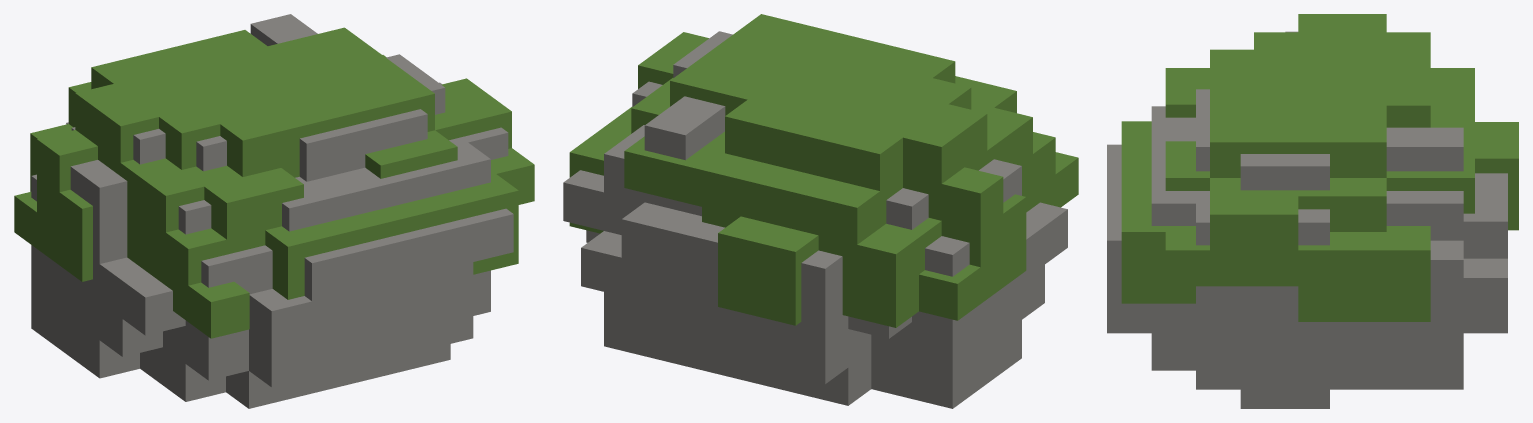
The model's file is rock-mossy-pixor-blocky.glb.
3 views of the same model, side by side, from view 1: azimuth 30°, elevation 25°; view 2: azimuth 150°, elevation 25°; view 3: azimuth 270°, elevation 25° (orthographic). The views are drawn at different scales.
Parts seen in each view (by area): view 1: Mossy rock moss, Mossy rock; view 2: Mossy rock moss, Mossy rock; view 3: Mossy rock moss, Mossy rock.
Part boxes in pixels (left/top/right/bottom): Mossy rock moss: left=14, top=27, right=534, bottom=338; Mossy rock: left=31, top=14, right=513, bottom=408; Mossy rock moss: left=569, top=14, right=1078, bottom=327; Mossy rock: left=563, top=31, right=1067, bottom=408; Mossy rock moss: left=1121, top=14, right=1518, bottom=321; Mossy rock: left=1107, top=31, right=1507, bottom=408.
Size of the model in its own units: 1.18 by 0.7062 by 1.12.
